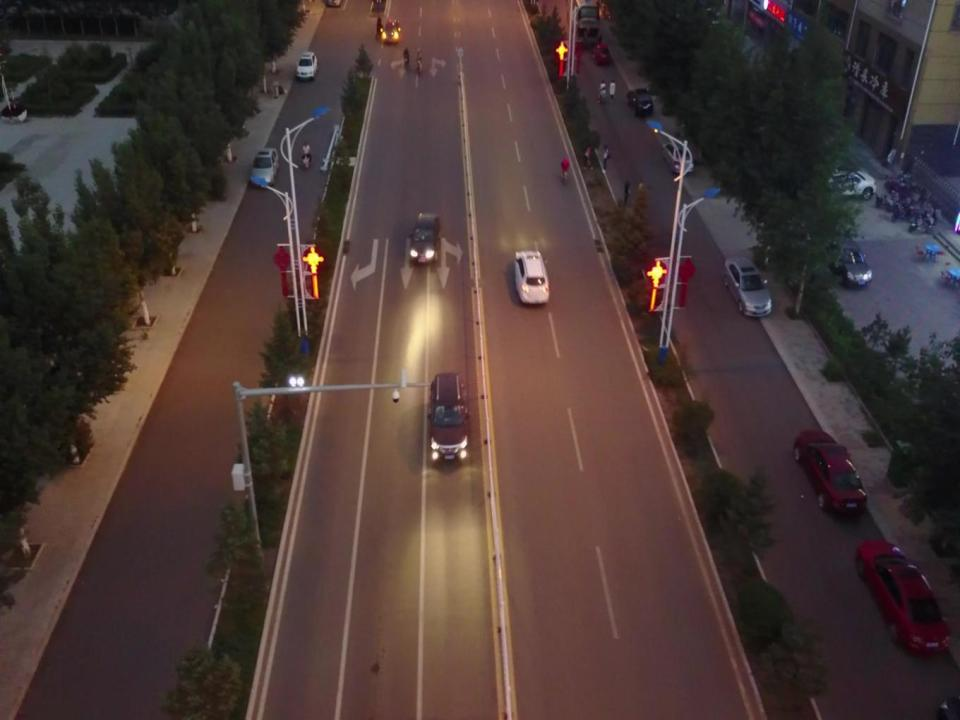car: (856, 540, 950, 657), (794, 429, 868, 515), (428, 372, 468, 459), (724, 258, 772, 316), (832, 236, 872, 287), (514, 250, 549, 302), (409, 212, 441, 264), (826, 171, 876, 199), (574, 6, 601, 48), (251, 147, 279, 185), (661, 141, 694, 172), (627, 88, 653, 115), (296, 51, 317, 80), (382, 19, 400, 44), (592, 42, 610, 66)
